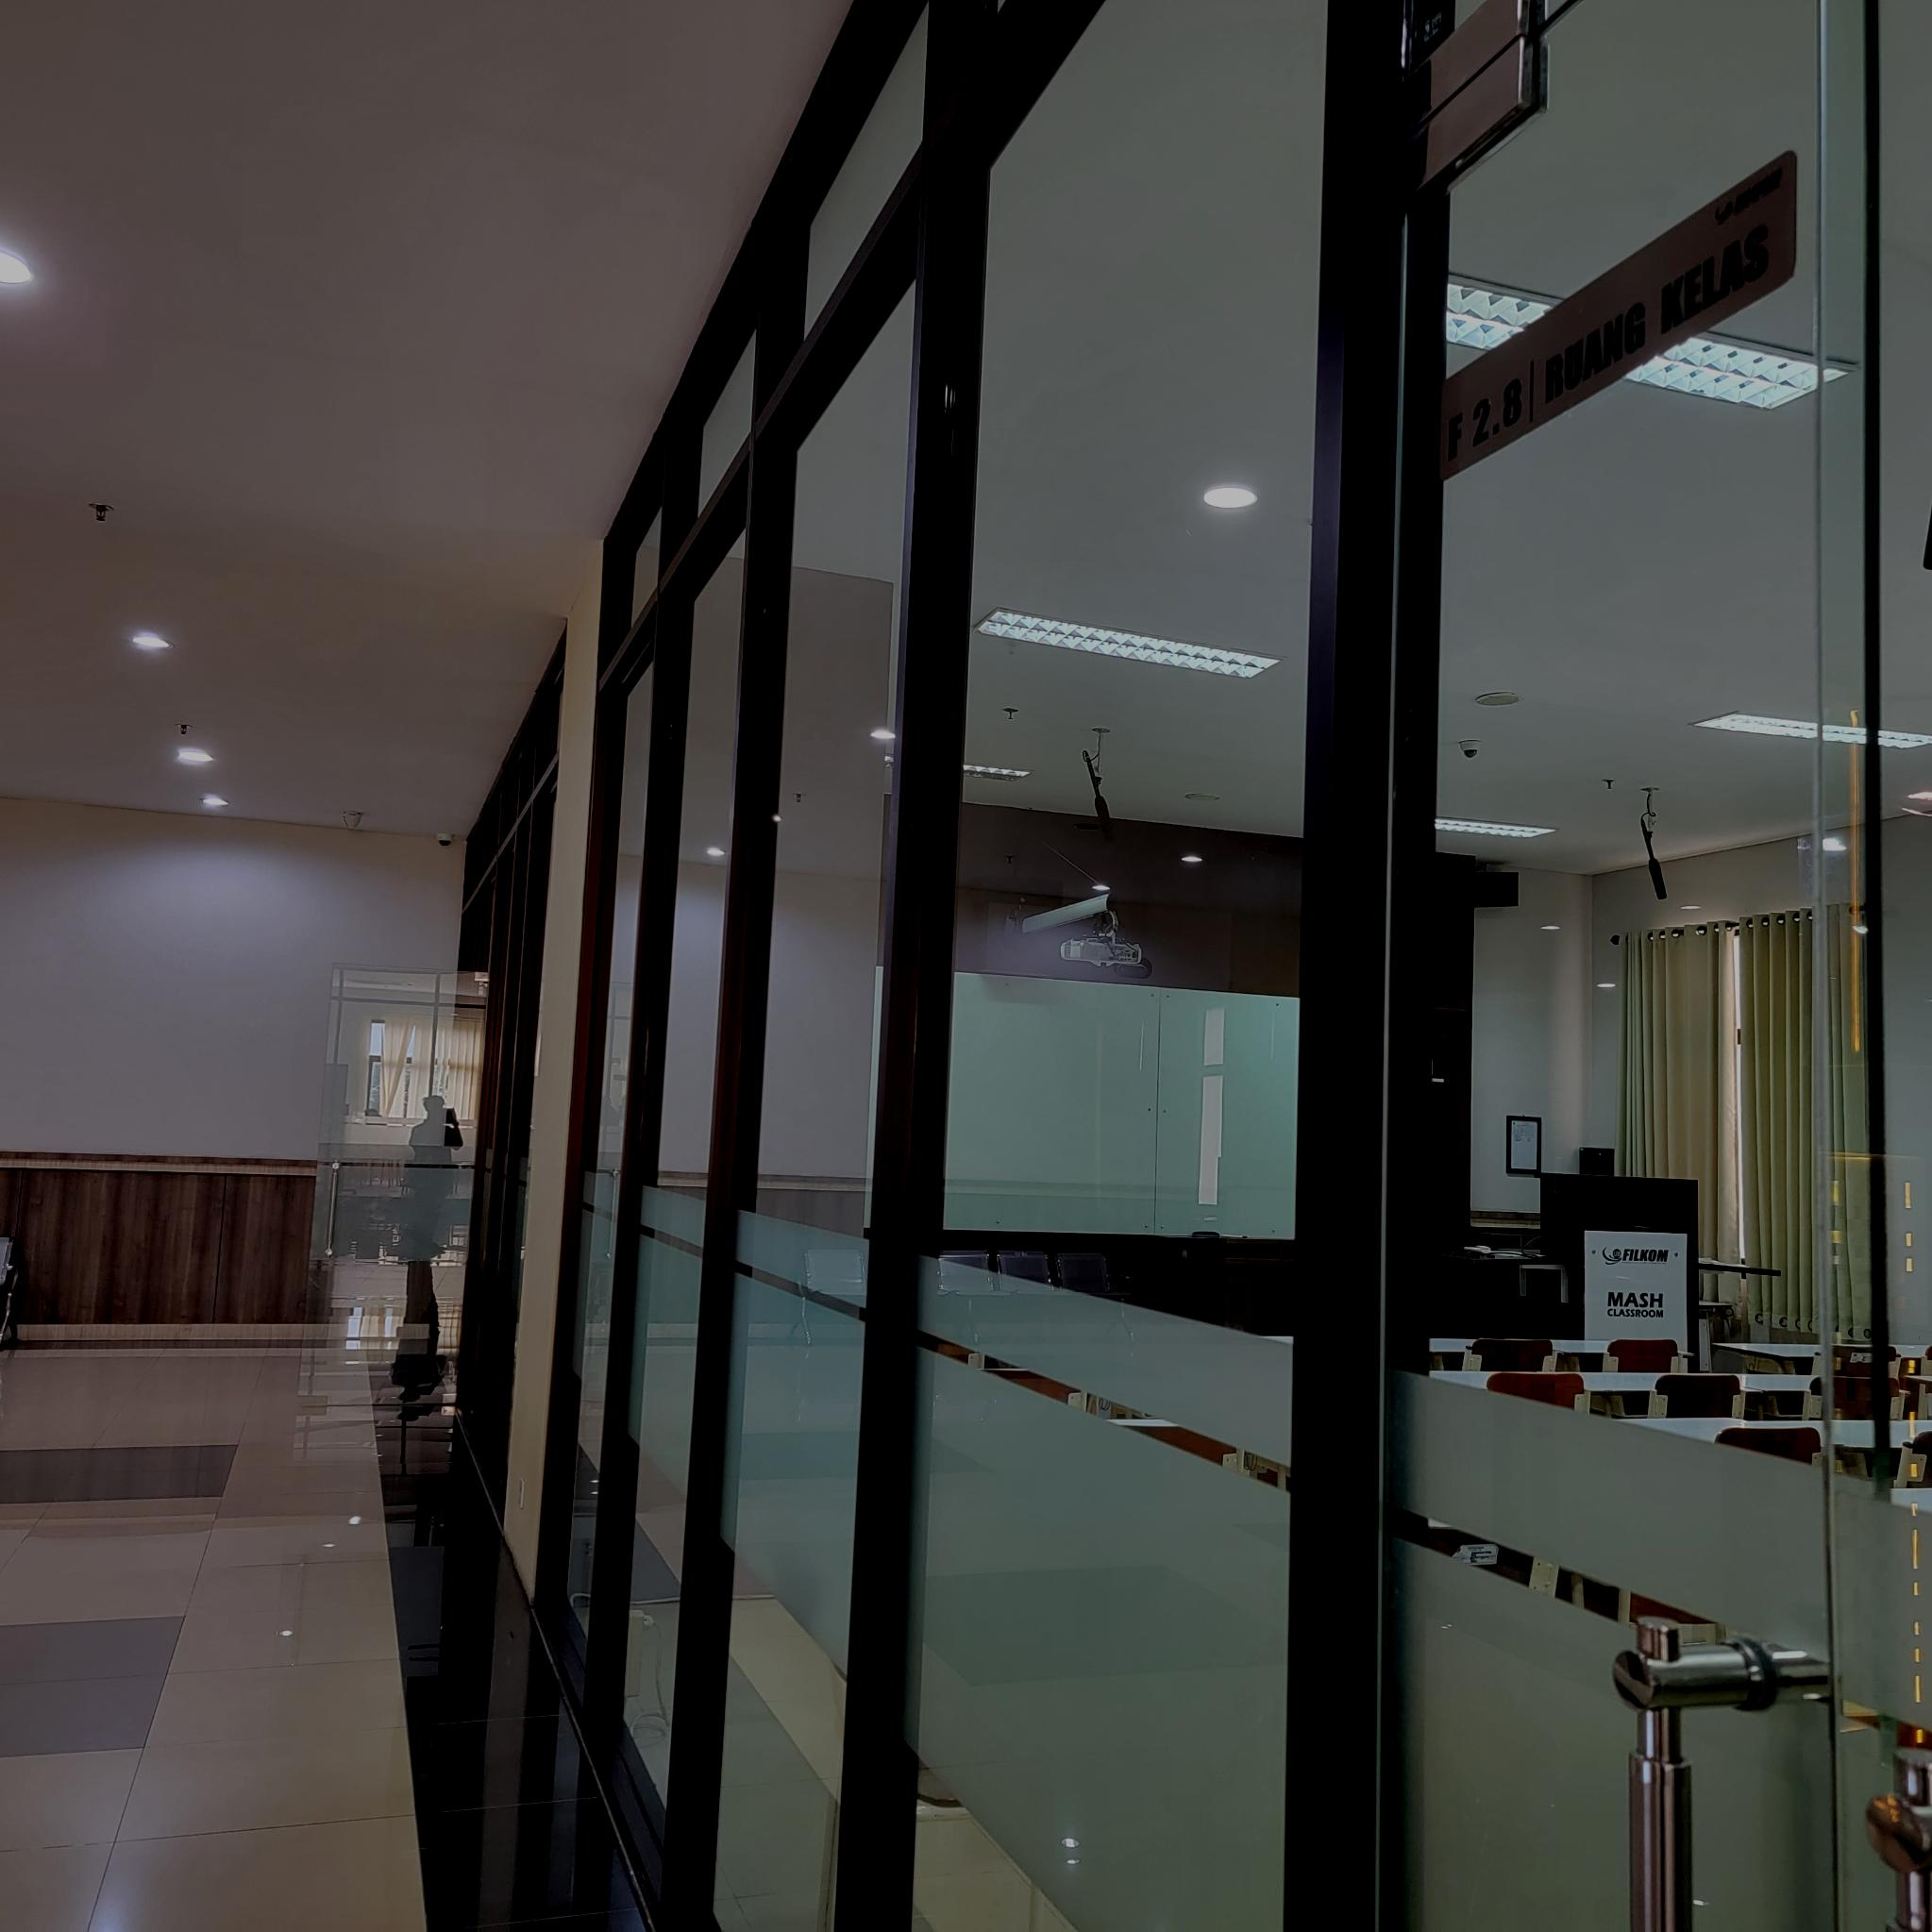plate: (1435, 147, 1798, 485)
